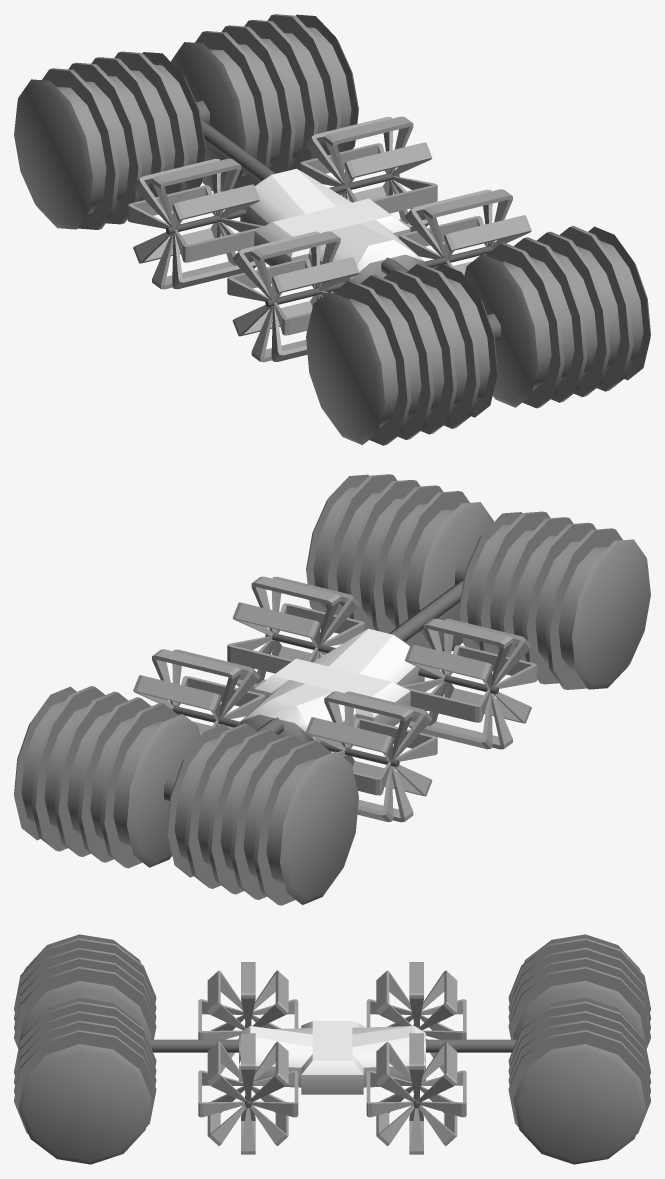
The model's file is Mine.glb.
3 views of the same model, one above another, from view 1: azimuth 30°, elevation 25°; view 2: azimuth 150°, elevation 25°; view 3: azimuth 270°, elevation 25° (orthographic). The views are drawn at different scales.
Parts seen in each view (by area): view 1: Cylinder.084, Cylinder.083, Cube.005, Cube.007, Cube.003, Cube.006, Cube.004, Cylinder.076, Cylinder.002, Cylinder.004; view 2: Cylinder.083, Cylinder.084, Cube.003, Cube.007, Cube.005, Cube.004, Cube.006, Cylinder.075, Cylinder.004, Cylinder.002; view 3: Cylinder.084, Cylinder.083, Cube.007, Cube.004, Cube.006, Cube.003, Cube.005, Cylinder.075, Cylinder.076.
Part boxes in pixels (left/top/right/bottom): Cylinder.084: left=306, top=226, right=650, bottom=445; Cylinder.083: left=14, top=14, right=358, bottom=229; Cube.005: left=127, top=158, right=263, bottom=289; Cube.007: left=240, top=168, right=424, bottom=291; Cube.003: left=227, top=231, right=359, bottom=362; Cube.006: left=300, top=116, right=437, bottom=231; Cube.004: left=399, top=189, right=531, bottom=275; Cylinder.076: left=196, top=100, right=275, bottom=181; Cylinder.002: left=166, top=173, right=399, bottom=234; Cylinder.004: left=265, top=246, right=493, bottom=307; Cylinder.083: left=14, top=686, right=358, bottom=905; Cylinder.084: left=306, top=474, right=650, bottom=689; Cube.003: left=401, top=618, right=537, bottom=749; Cube.007: left=240, top=628, right=424, bottom=751; Cube.005: left=305, top=691, right=437, bottom=822; Cube.004: left=227, top=576, right=364, bottom=691; Cube.006: left=133, top=649, right=265, bottom=735; Cylinder.075: left=389, top=560, right=468, bottom=641; Cylinder.004: left=265, top=633, right=498, bottom=694; Cylinder.002: left=171, top=706, right=399, bottom=767; Cylinder.084: left=14, top=934, right=156, bottom=1164; Cylinder.083: left=508, top=934, right=650, bottom=1164; Cube.007: left=239, top=1021, right=425, bottom=1094; Cube.004: left=198, top=1033, right=298, bottom=1154; Cube.006: left=366, top=1033, right=466, bottom=1154; Cube.003: left=198, top=962, right=298, bottom=1073; Cube.005: left=366, top=962, right=466, bottom=1073; Cylinder.075: left=148, top=1039, right=239, bottom=1052; Cylinder.076: left=425, top=1039, right=516, bottom=1052.
Size of the model in its own units: 0.5004 by 0.2662 by 1.19.
1 material, 1 textured.
